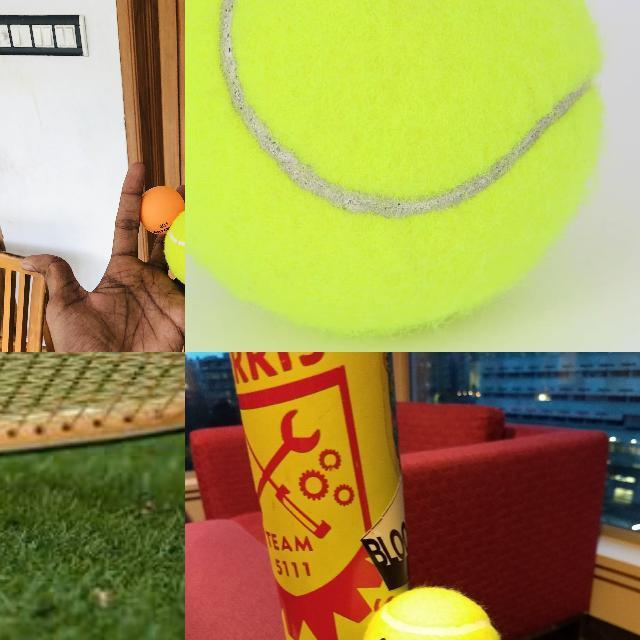tennis-ball: (185, 0, 606, 333), (360, 586, 504, 639), (164, 203, 184, 275)
